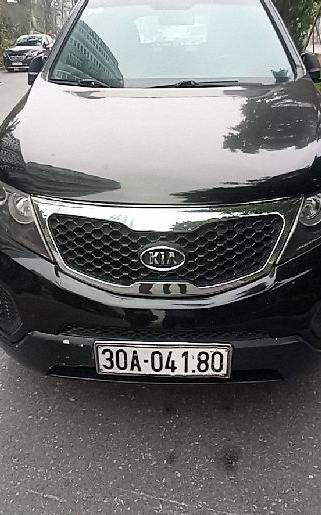Plate-iWeP: (98, 343, 228, 376)
